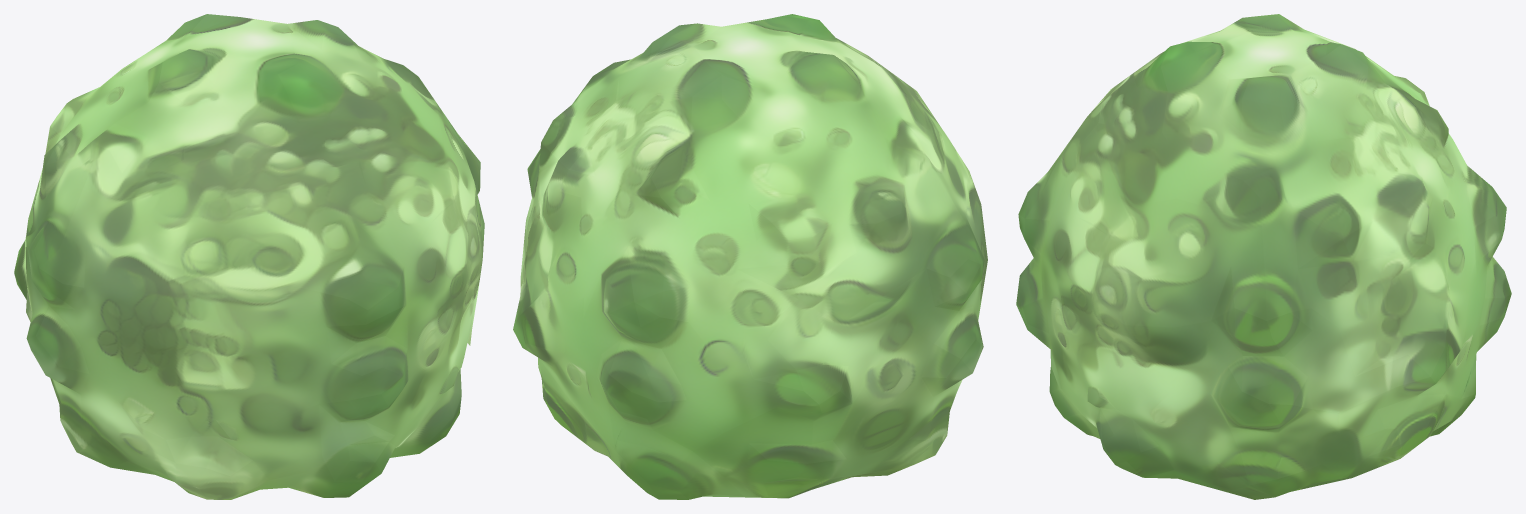
File: base_basic_shaded.fbx
3 renders of one model, left to right at view 1: azimuth 30°, elevation 25°; view 2: azimuth 150°, elevation 25°; view 3: azimuth 270°, elevation 25°, orthographic. The views are drawn at different scales.
Parts seen in each view (by area): view 1: model; view 2: model; view 3: model.
Boxes of the visible parts, <box> form: model: <box>14,14,484,499</box>; model: <box>513,14,987,499</box>; model: <box>1016,14,1511,499</box>.
Bounding box in the file's own units: 187 × 163 × 186.
